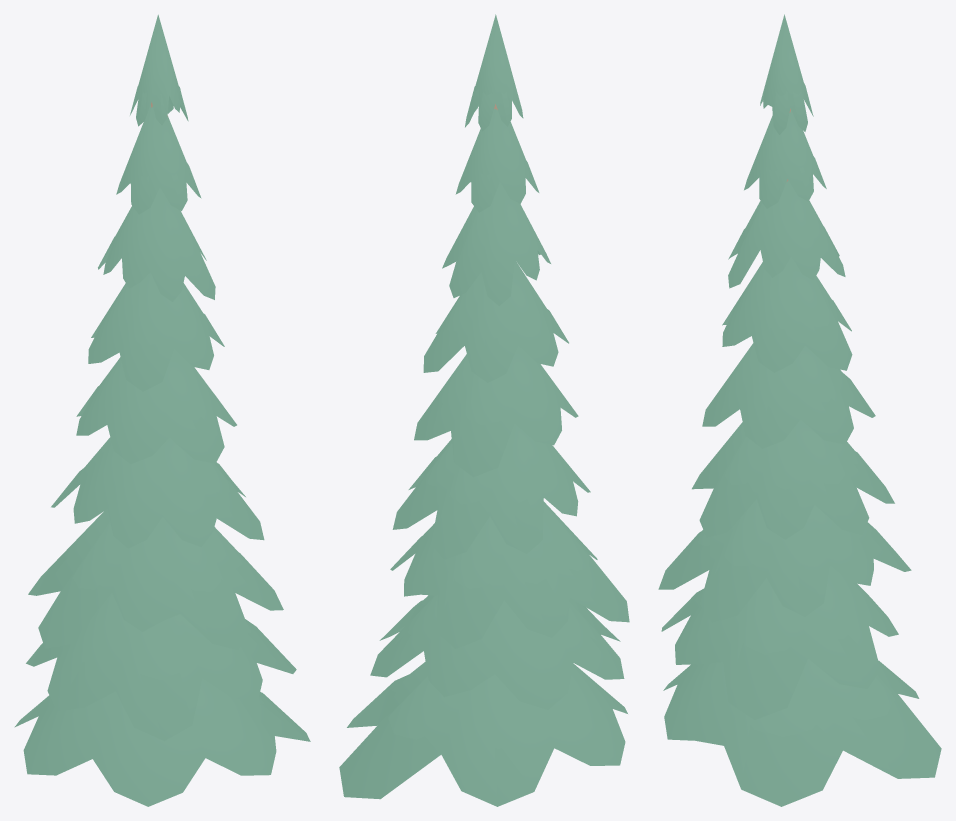
Rendered from Blender_Spruce_1.glb.
The picture shows the model from 3 angles, left to right: view 1: azimuth 30°, elevation 25°; view 2: azimuth 150°, elevation 25°; view 3: azimuth 270°, elevation 25°; orthographic projection. The views are drawn at different scales.
Visible parts, largest first — view 1: Blender_Spruce_1; view 2: Blender_Spruce_1; view 3: Blender_Spruce_1.
Boxes of the visible parts, <box> form: Blender_Spruce_1: <box>14,14,310,806</box>; Blender_Spruce_1: <box>339,14,629,806</box>; Blender_Spruce_1: <box>658,14,941,806</box>.
Size of the model in its own units: 8.9 by 23.45 by 8.26.
